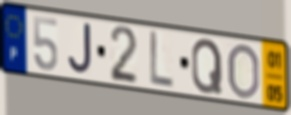2: (108, 24, 140, 87)
5: (31, 14, 59, 73)
J: (66, 22, 93, 77)
L: (148, 29, 175, 92)
O: (226, 42, 261, 102)
Q: (190, 36, 225, 96)
